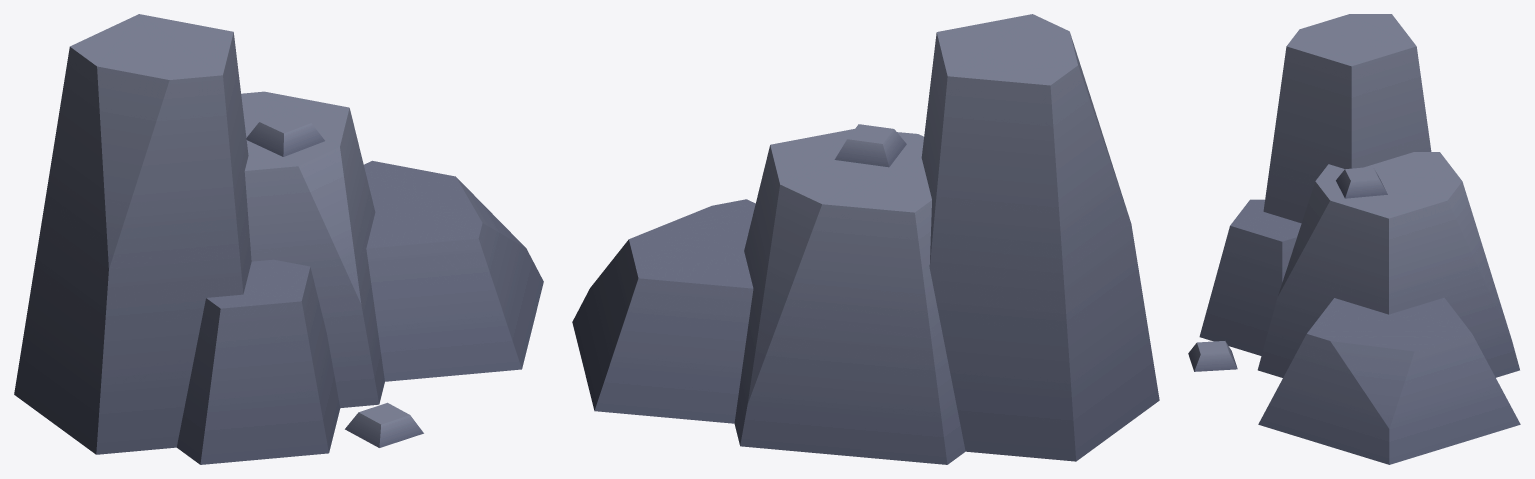
File: rock-c.glb
The picture shows the model from 3 angles, left to right: view 1: azimuth 30°, elevation 25°; view 2: azimuth 150°, elevation 25°; view 3: azimuth 270°, elevation 25°; orthographic projection. The views are drawn at different scales.
Parts seen in each view (by area): view 1: rock-c; view 2: rock-c; view 3: rock-c.
Boxes of the visible parts, x1=… form: rock-c: x1=14, y1=14, x2=543, y2=464; rock-c: x1=572, y1=14, x2=1159, y2=464; rock-c: x1=1188, y1=14, x2=1520, y2=464.
Size of the model in its own units: 0.7837 by 0.51 by 0.5659.
1 material, 1 textured.
